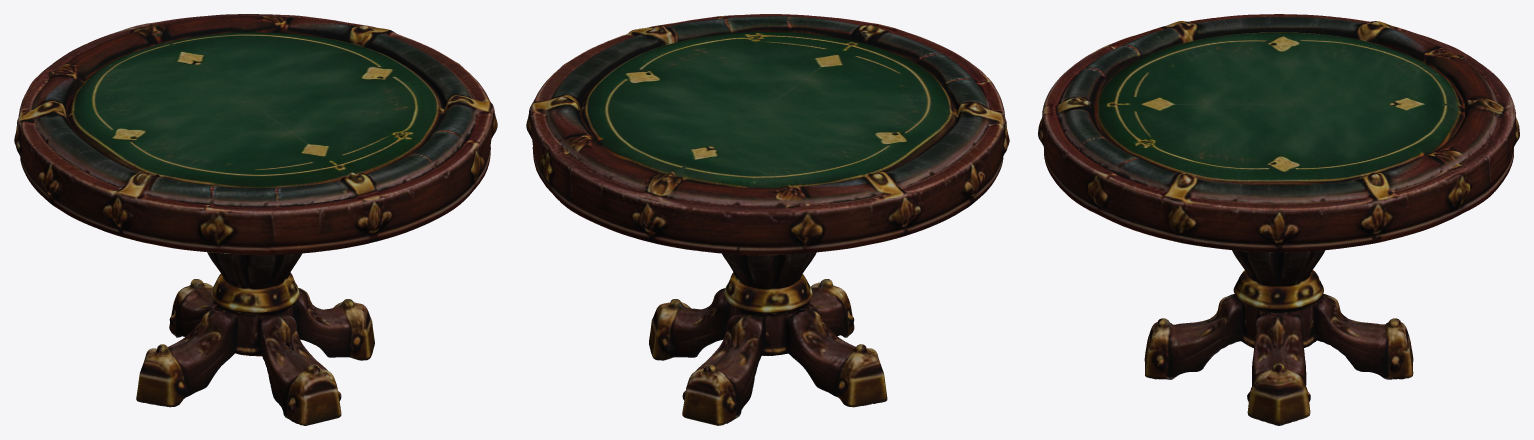
File: table-trial.glb
3 views of the same model, side by side, from view 1: azimuth 30°, elevation 25°; view 2: azimuth 150°, elevation 25°; view 3: azimuth 270°, elevation 25° (orthographic).
Parts seen in each view (by area): view 1: geometry_0; view 2: geometry_0; view 3: geometry_0.
Boxes of the visible parts, box(x1,y1,x2,y2) form: geometry_0: box(14, 14, 497, 425); geometry_0: box(526, 14, 1009, 425); geometry_0: box(1038, 14, 1519, 425).
Bounding box in the file's own units: 1.99 × 1.24 × 2.
1 material, 1 textured.
